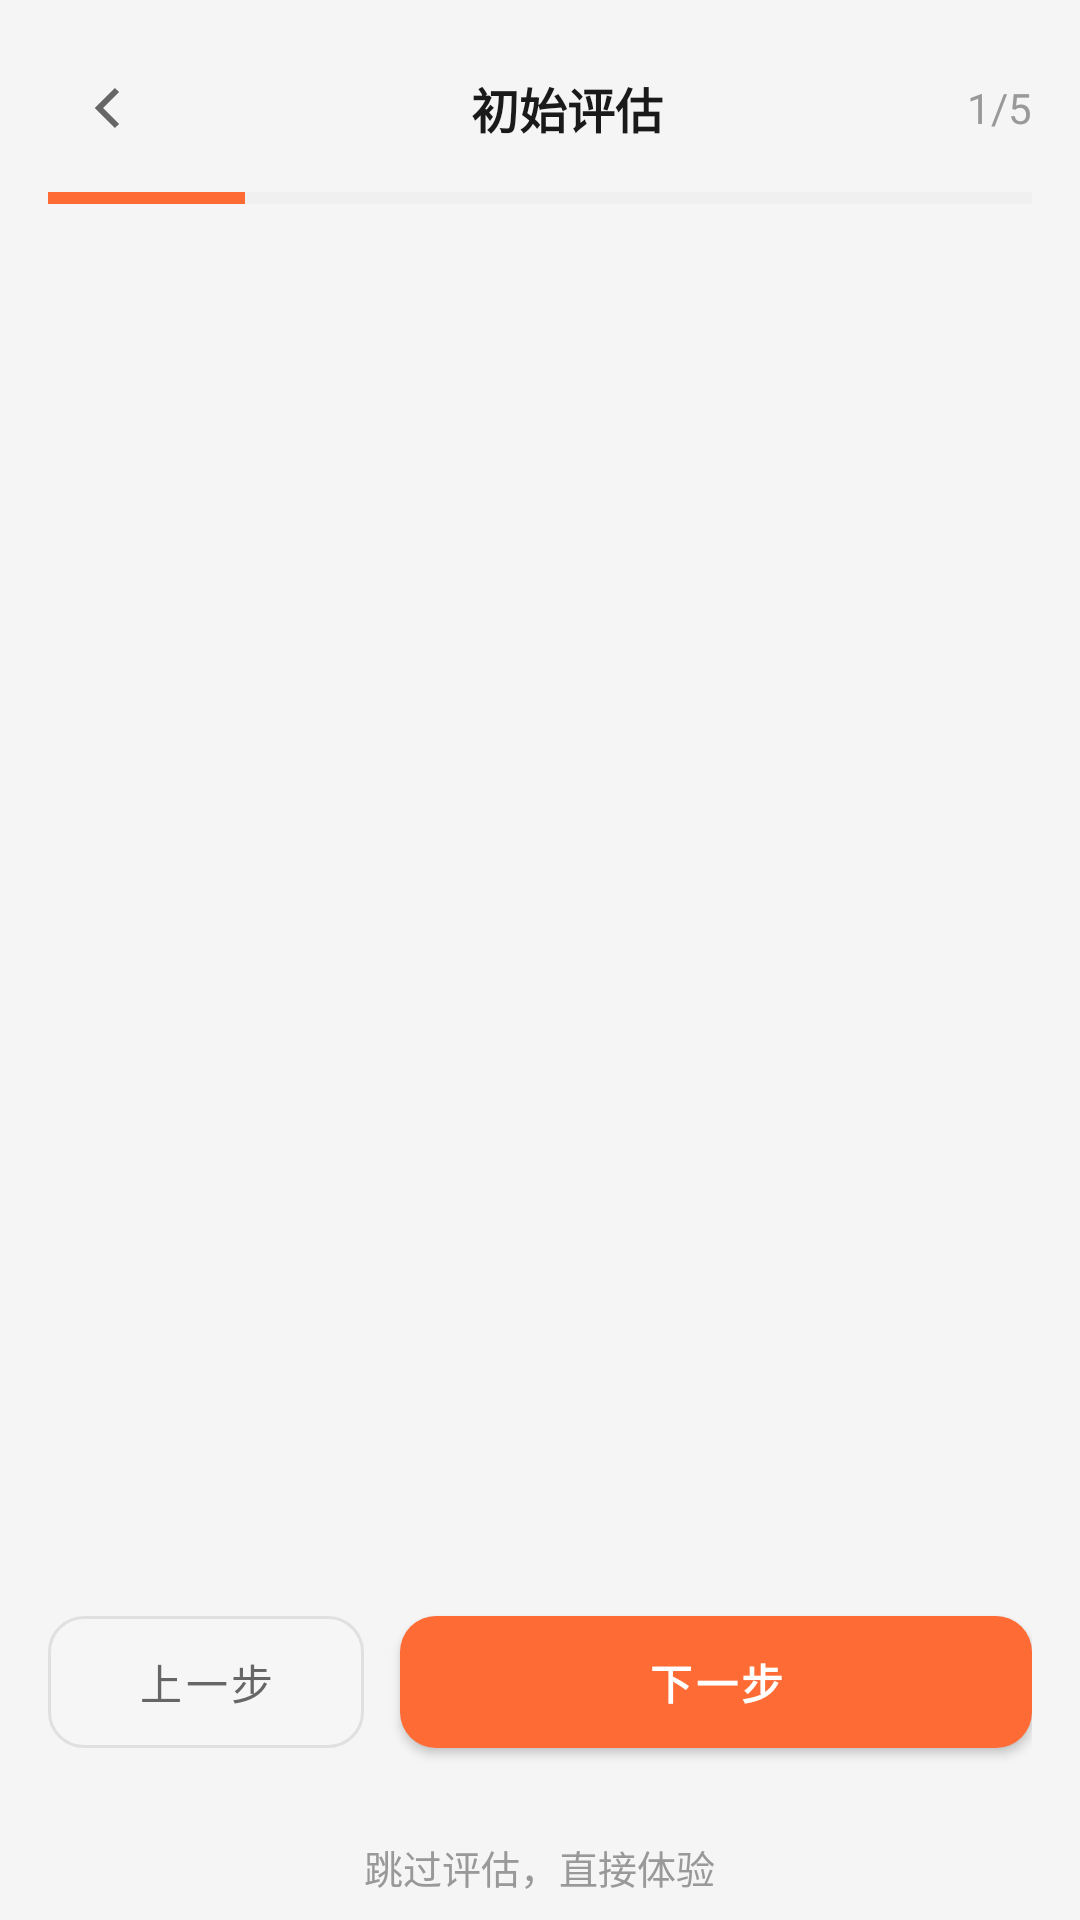

Point at icon controls on the screen. Image size 1080px×1920px, points as (x=x, y=y).
返回: (x=107, y=108)
